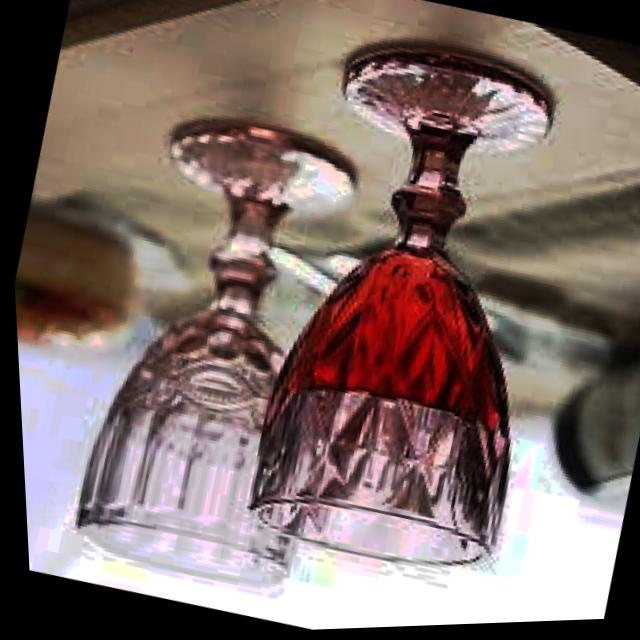drink: (207, 23, 617, 598)
